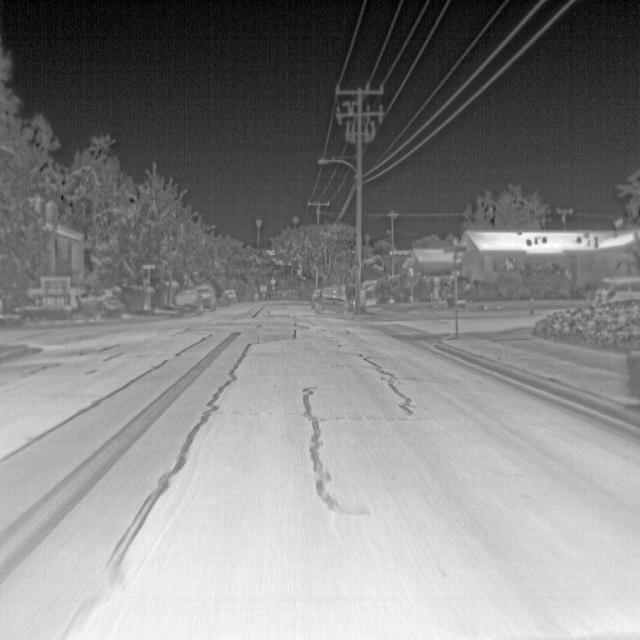Vehicle: (313, 286, 350, 318), (171, 288, 204, 316), (193, 283, 218, 314)
